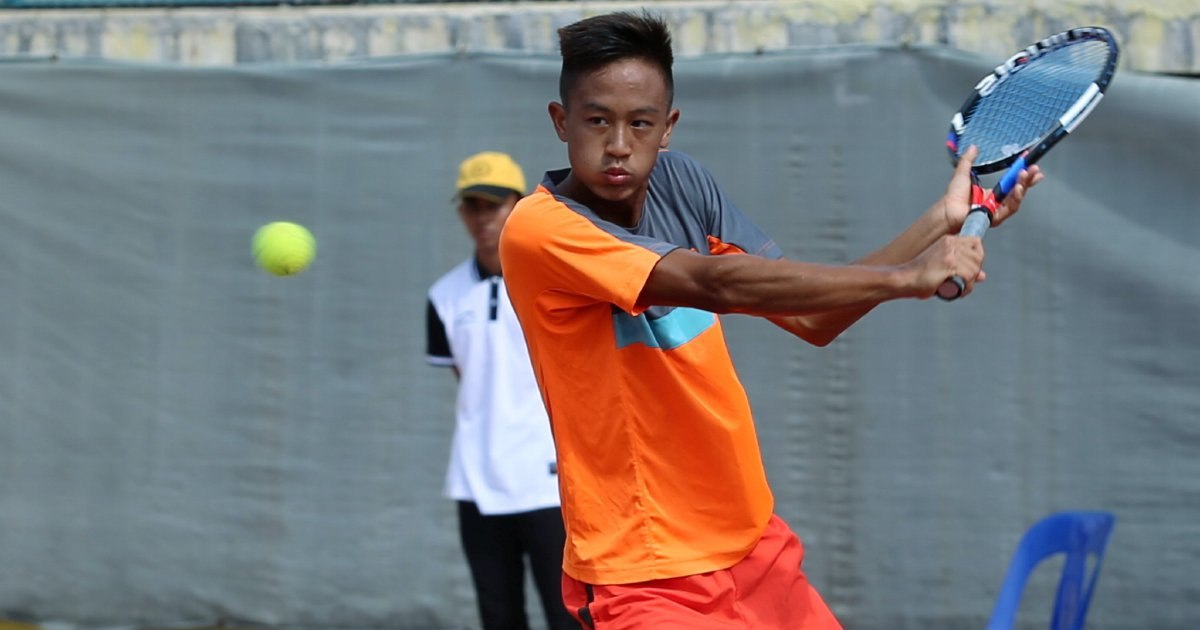tennis_ball: (244, 217, 319, 283)
